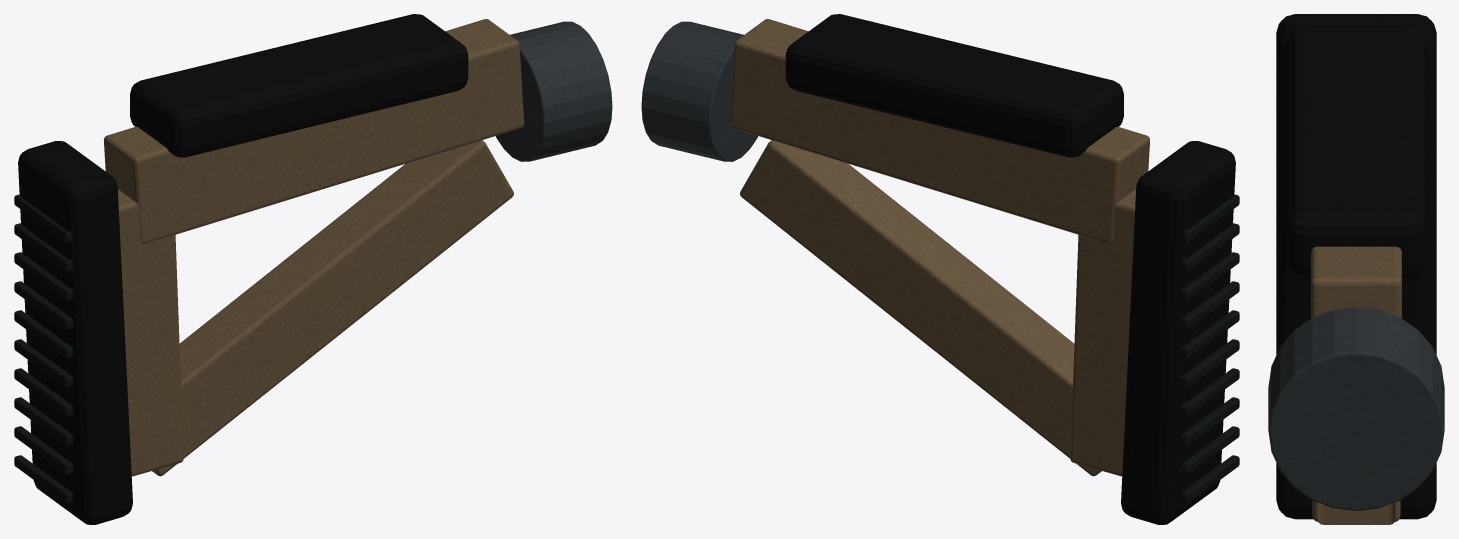
The model's file is kite01.stock.standard.glb.
3 views of the same model, side by side, from view 1: azimuth 30°, elevation 25°; view 2: azimuth 150°, elevation 25°; view 3: azimuth 270°, elevation 25° (orthographic). The views are drawn at different scales.
Parts seen in each view (by area): view 1: VIS_kite01_stock_standard; view 2: VIS_kite01_stock_standard; view 3: VIS_kite01_stock_standard.
Boxes of the visible parts, bbox=[...] form: VIS_kite01_stock_standard: bbox=[14, 14, 612, 524]; VIS_kite01_stock_standard: bbox=[641, 14, 1239, 524]; VIS_kite01_stock_standard: bbox=[1268, 14, 1444, 524].
Size of the model in its own units: 0.2735 by 0.1882 by 0.056.
Materials: 4 (4 with a texture image).
